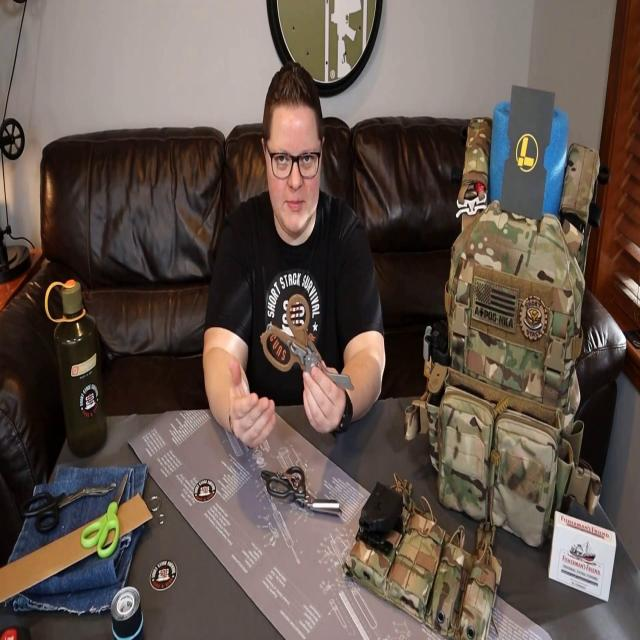scissor: (262, 293, 354, 390), (19, 482, 115, 532), (81, 471, 128, 558), (261, 466, 342, 516)
